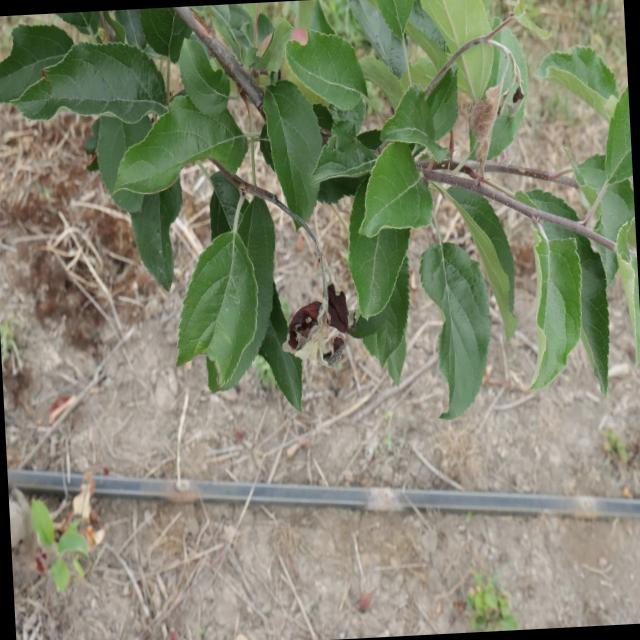-FireBlight-: (436, 67, 504, 173), (285, 285, 358, 349)
